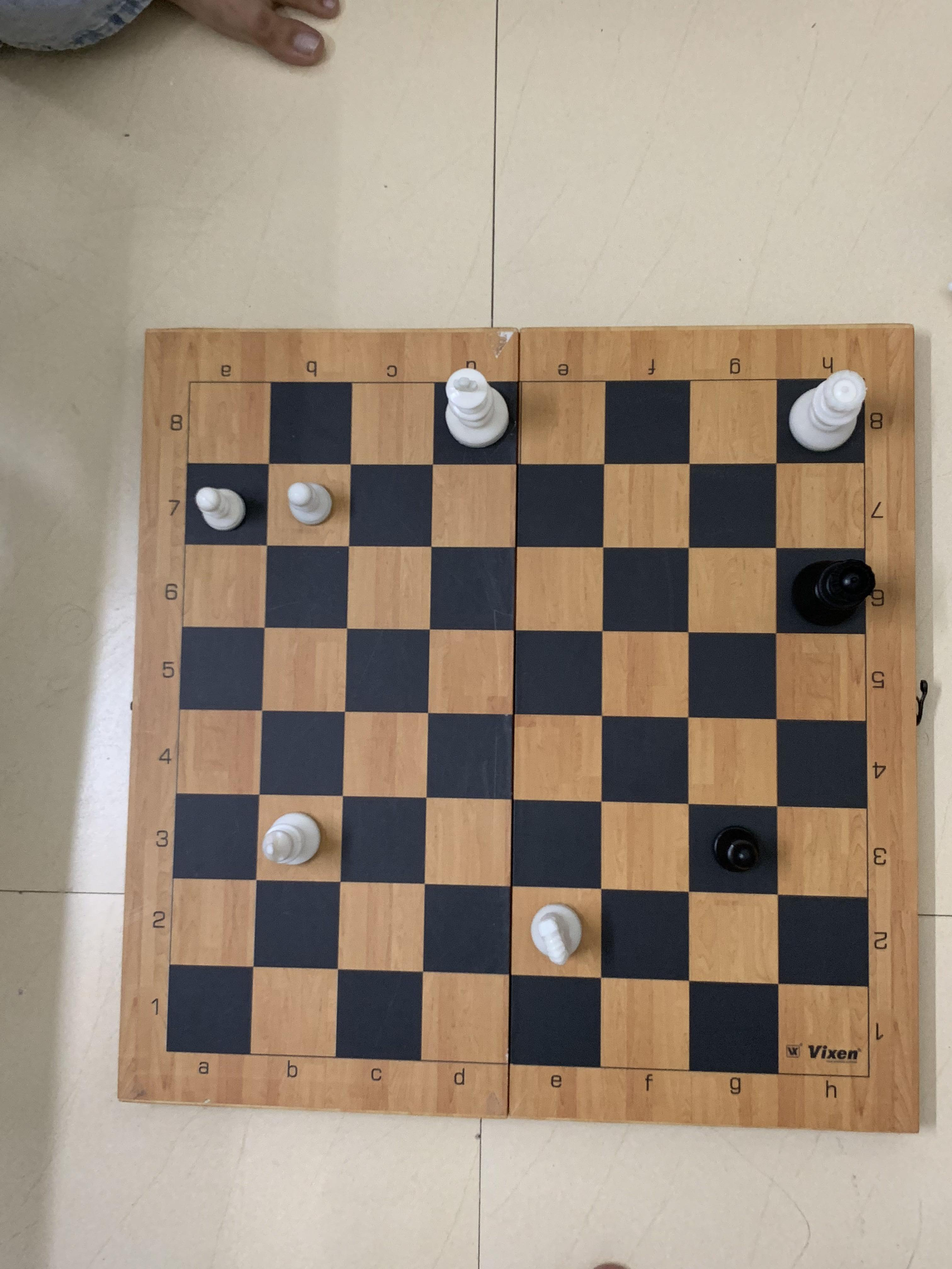black_pawn: (696, 808, 771, 890)
black_queen: (779, 546, 877, 629)
white_bishop: (260, 792, 328, 881)
white_king: (427, 362, 516, 455)
white_knight: (515, 889, 596, 973)
white_pawn: (186, 469, 264, 550), (271, 471, 348, 541)
white_queen: (781, 364, 873, 454)
